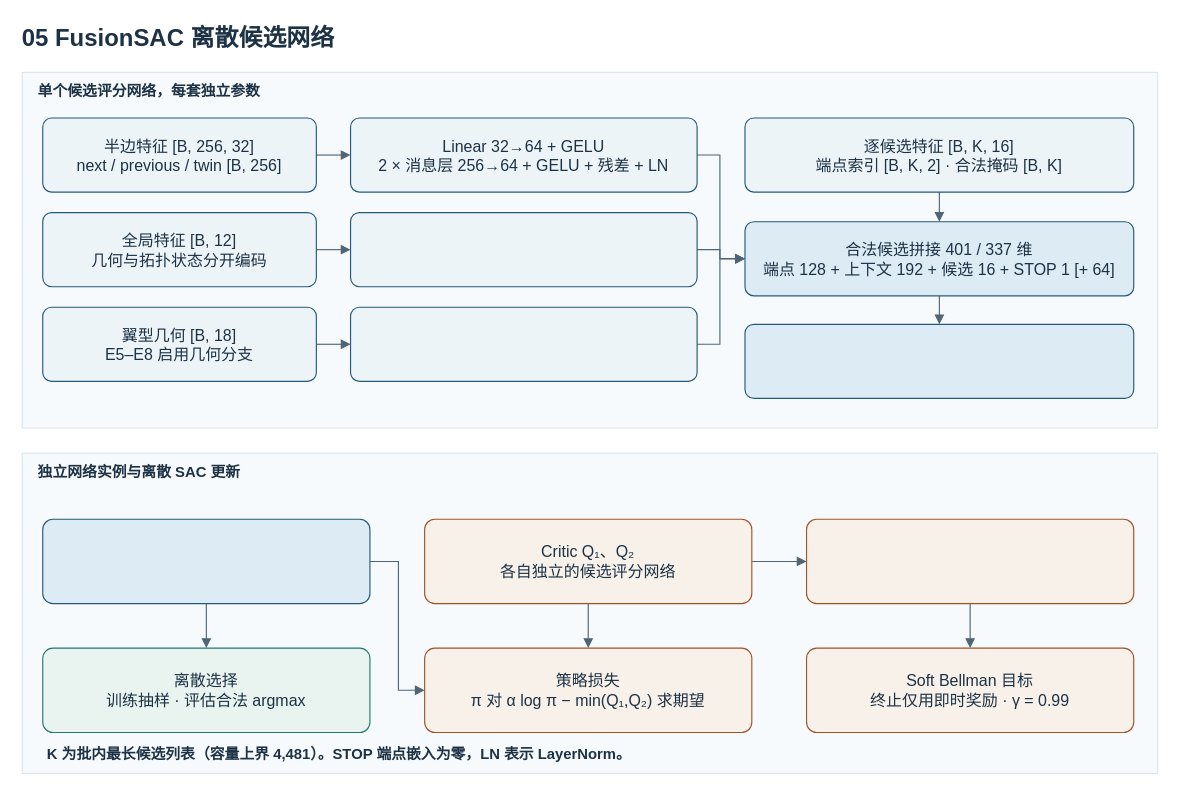
The diagram is 1179 pixels wide and 793 high, and some of its shapes have lost their labels. Here are the shapes that lost their labels. From the top down, the box of each, then its label:
(349, 211, 697, 287): Linear 12→64 + GELU 拼接半边 mean/max 池化，得到 192 维
(349, 306, 697, 381): Linear 18→64 LayerNorm + GELU
(744, 323, 1134, 398): Linear 401/337→64→1 隐藏层 GELU · 每候选输出一个标量
(42, 518, 370, 604): Actor 合法行 masked softmax → π(a|s)
(805, 518, 1134, 604): 目标 Critic Q̄₁、Q̄₂ Critic 的指数移动平均 · τ = 0.005
